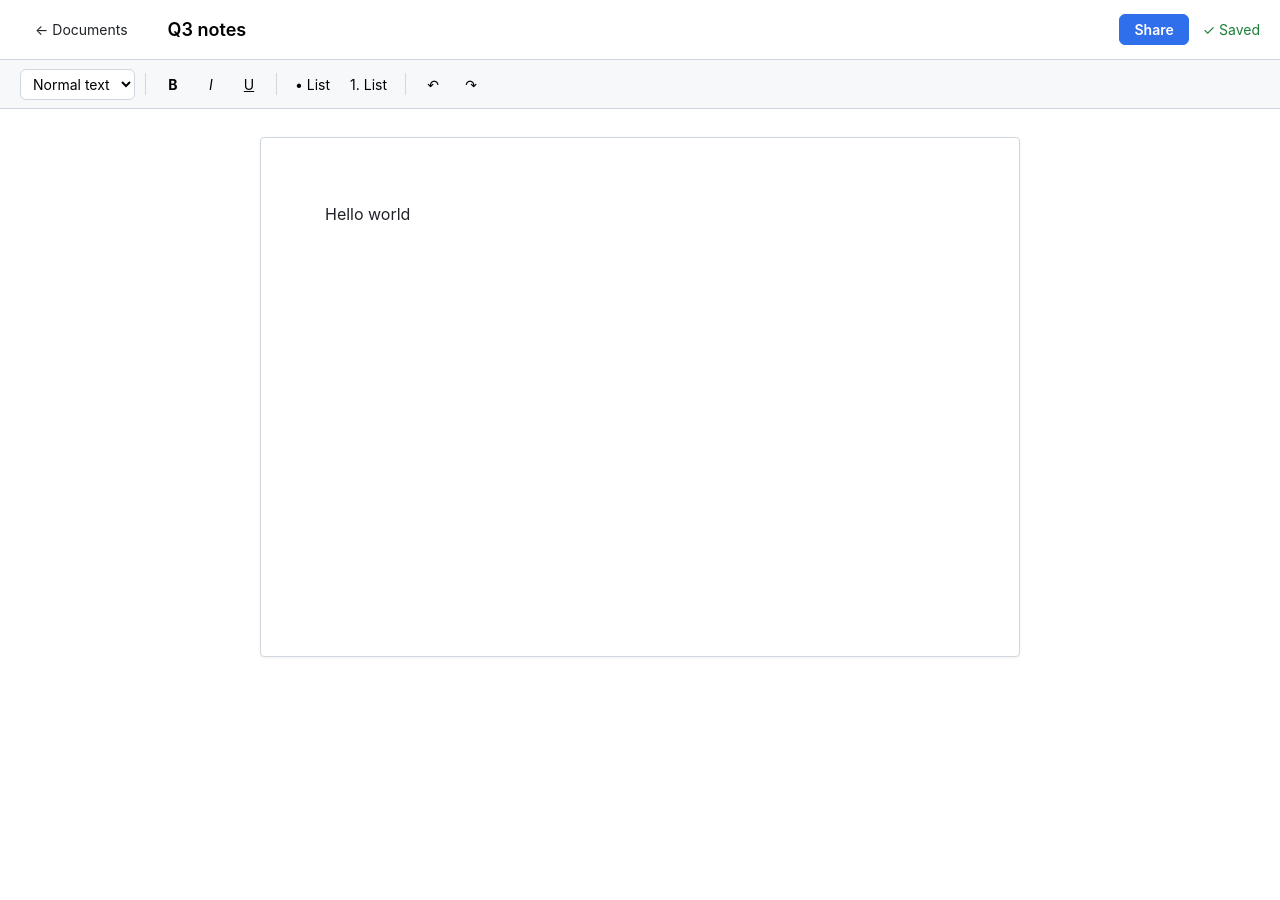
Test: document editor › asks before going back to the list when offline stopped the save
Replace the text in the field named "Document title" with "Mine" at x=277, y=30, box [157, 13, 397, 46]
Then press Enter
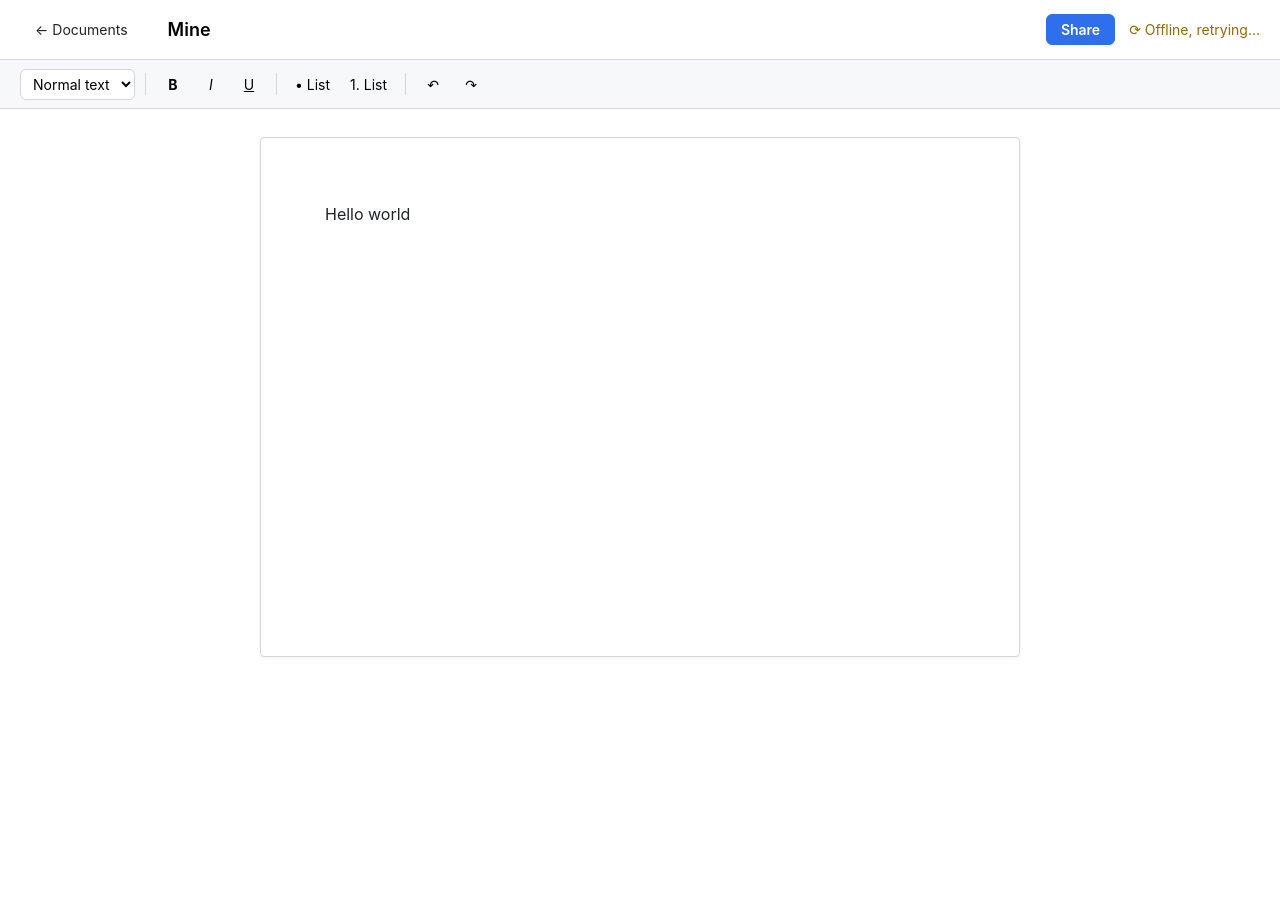
Expected: the message reads "⟳ Offline, retrying…", [1129, 21, 1260, 38]
Click the link "← Documents".
click(81, 30)  # box [20, 14, 143, 45]
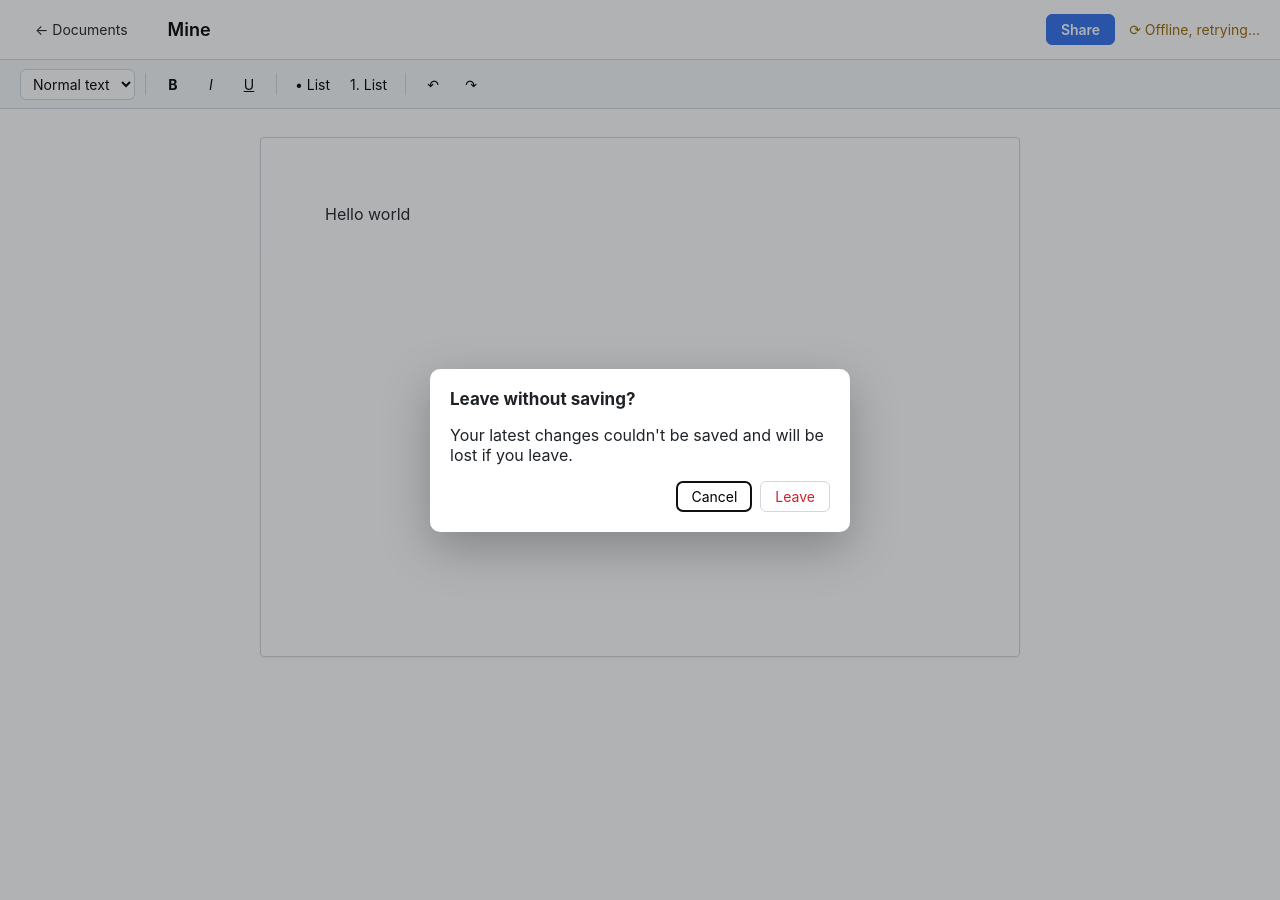
Expected: the dialog shows "Leave without saving?", [450, 388, 635, 408]
Click the button "Leave".
click(795, 496)  # box [760, 480, 830, 512]
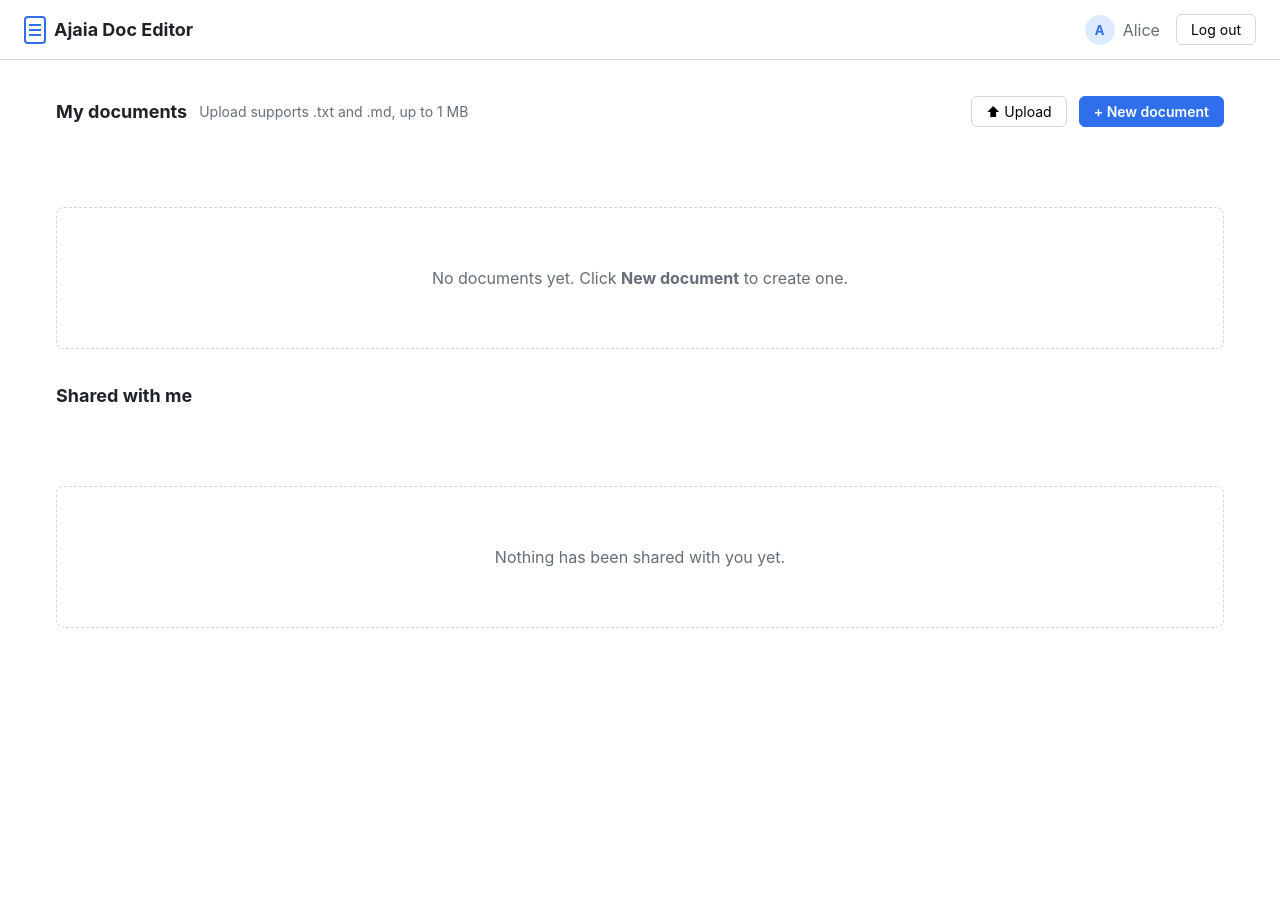
Expected: the heading "My documents" is shown, [56, 101, 187, 122]
